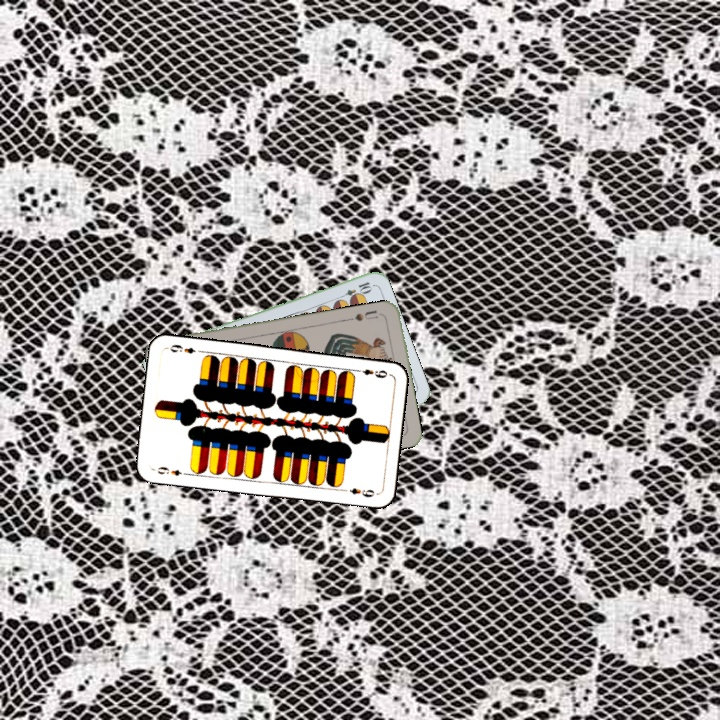E10: (335, 278, 374, 303)
E9: (351, 365, 390, 380), (153, 463, 184, 479)
SU: (351, 306, 386, 324)
